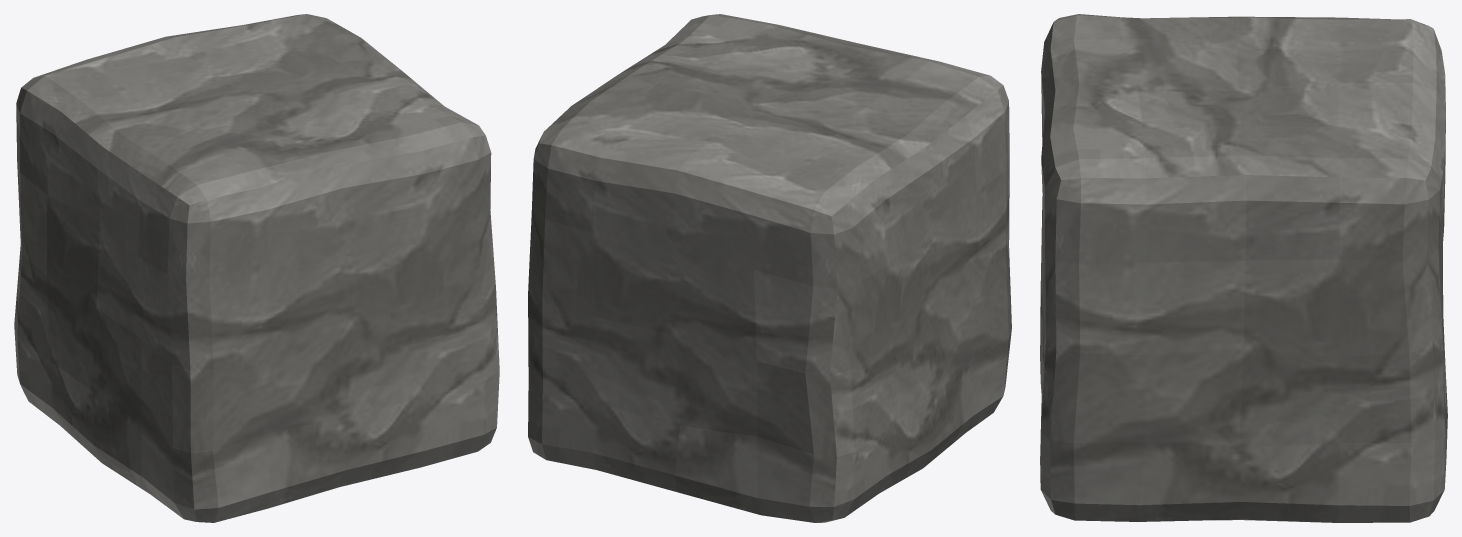
The model's file is cut_marble.glb.
3 renders of one model, left to right at view 1: azimuth 30°, elevation 25°; view 2: azimuth 150°, elevation 25°; view 3: azimuth 270°, elevation 25°, orthographic. The views are drawn at different scales.
Visible parts, largest first — view 1: model; view 2: model; view 3: model.
Boxes of the visible parts, bbox=[...] form: model: bbox=[14, 14, 499, 522]; model: bbox=[528, 14, 1011, 522]; model: bbox=[1040, 14, 1447, 522].
Bounding box in the file's own units: 0.2476 × 0.2486 × 0.2454.
1 material, 1 textured.
